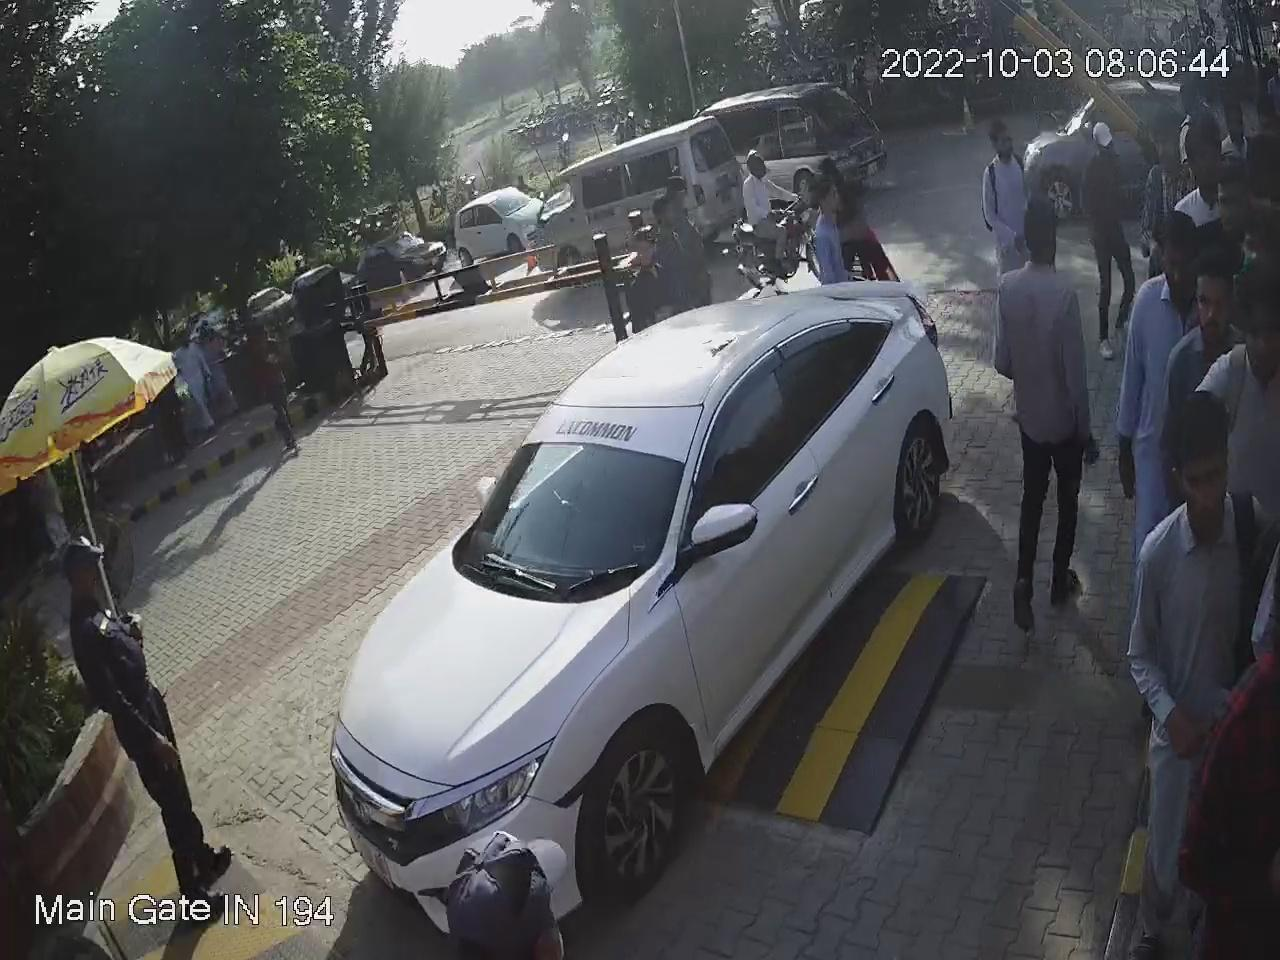windshield: (466, 397, 713, 570)
